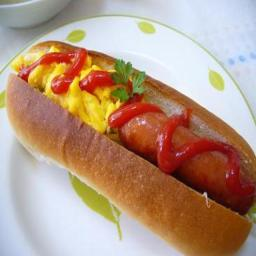hotdog: (7, 31, 256, 256)
